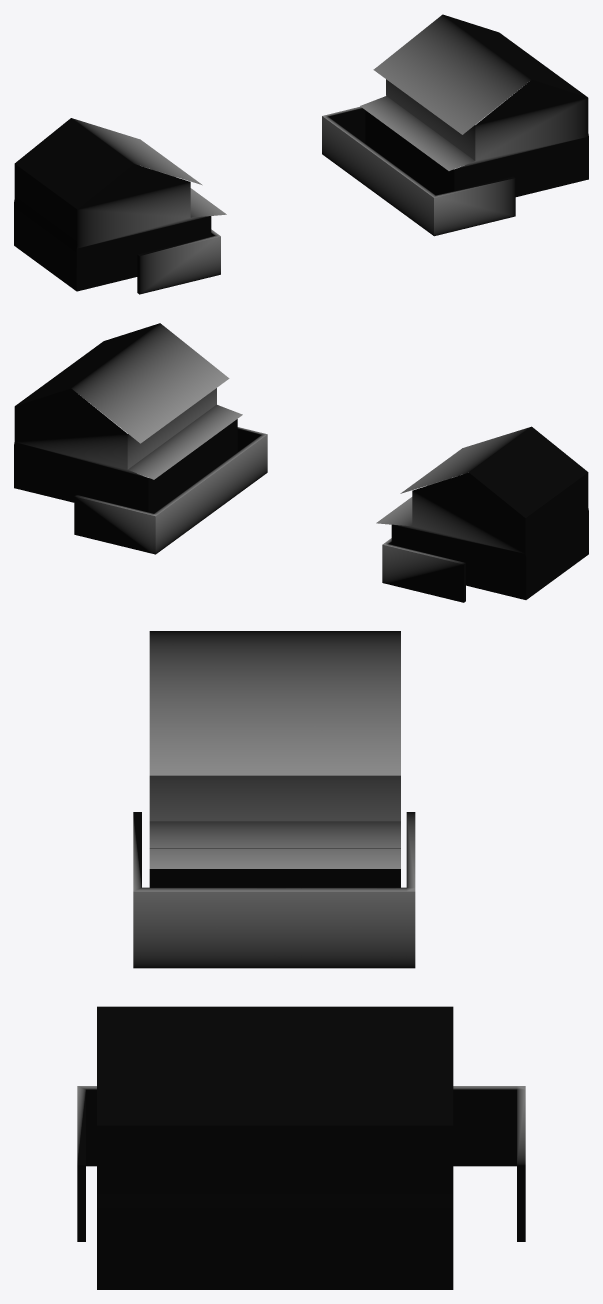
The model's file is K_BILL05.glb.
The picture shows the model from 3 angles, top to bottom: view 1: azimuth 30°, elevation 25°; view 2: azimuth 150°, elevation 25°; view 3: azimuth 270°, elevation 25°; orthographic projection. The views are drawn at different scales.
Parts seen in each view (by area): view 1: a; view 2: a; view 3: a.
Part boxes in pixels (x1,y1,x2,y2): a: (14,14,588,294); a: (14,323,588,602); a: (77,631,525,1289).
Bounding box in the file's own units: 64.28 × 15.76 × 25.
1 material, 1 textured.
